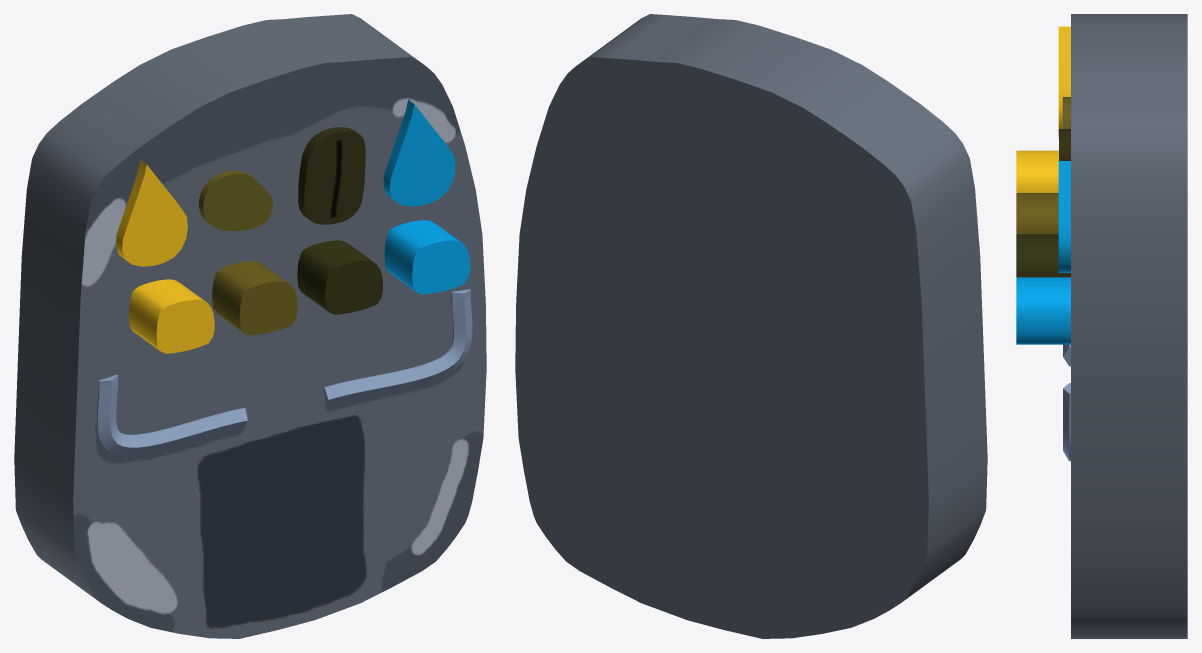
The model's file is Nutrient_Machine.fbx.
The picture shows the model from 3 angles, left to right: view 1: azimuth 30°, elevation 25°; view 2: azimuth 150°, elevation 25°; view 3: azimuth 270°, elevation 25°; orthographic projection.
Parts seen in each view (by area): view 1: root (×11); view 2: root; view 3: root (×10).
Part boxes in pixels (x1=…): root (×11): x1=14, y1=14, x2=486, y2=638; root: x1=515, y1=14, x2=987, y2=638; root (×10): x1=1016, y1=14, x2=1187, y2=638.
Size of the model in its own units: 0.4061 by 0.5213 by 0.1471.
10 materials, 8 textured.
